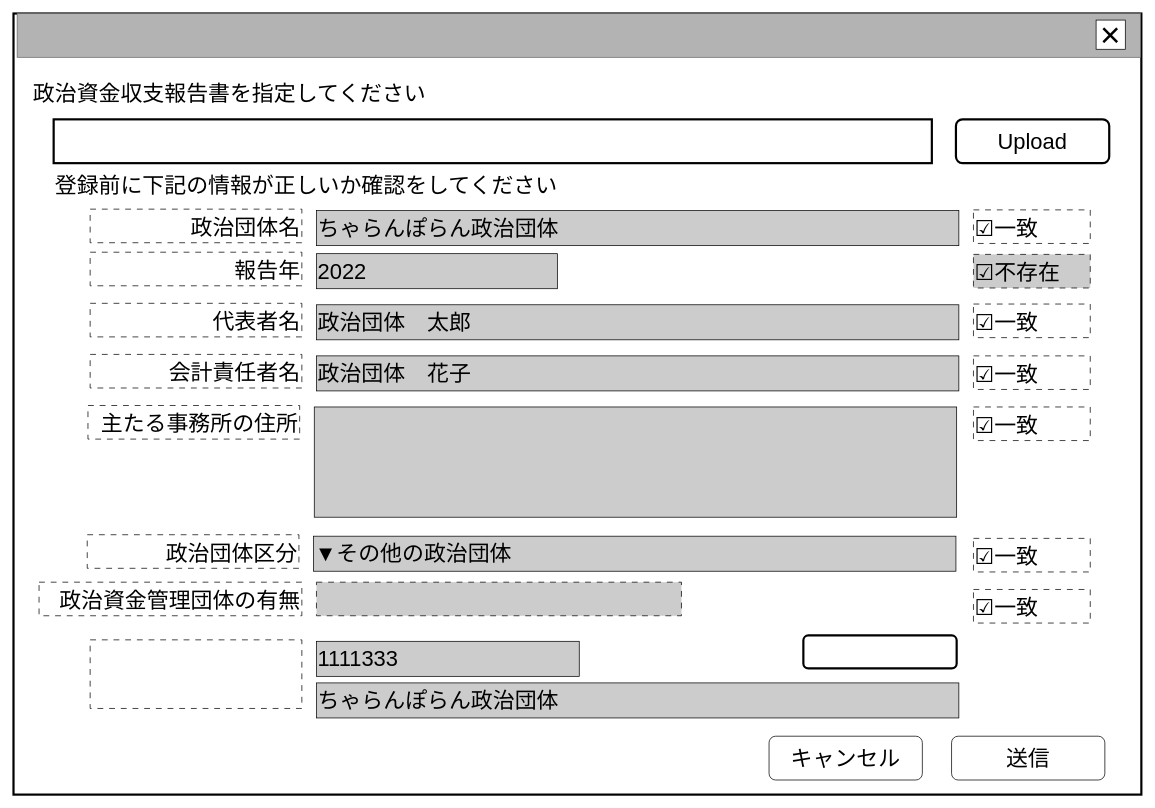
The diagram is 1155 pixels wide and 808 high, and some of its shapes have lost their labels. Here are the shapes that lost their labels. From the top down, the centre of each, then its label:
At pixel 635 461: "東京都千代田区霞ケ浦999番地".
At pixel 498 598: "☑政治資金管理団体の有無".
At pixel 879 651: "検索".
At pixel 195 673: "結びつける登録済の政治団体".
